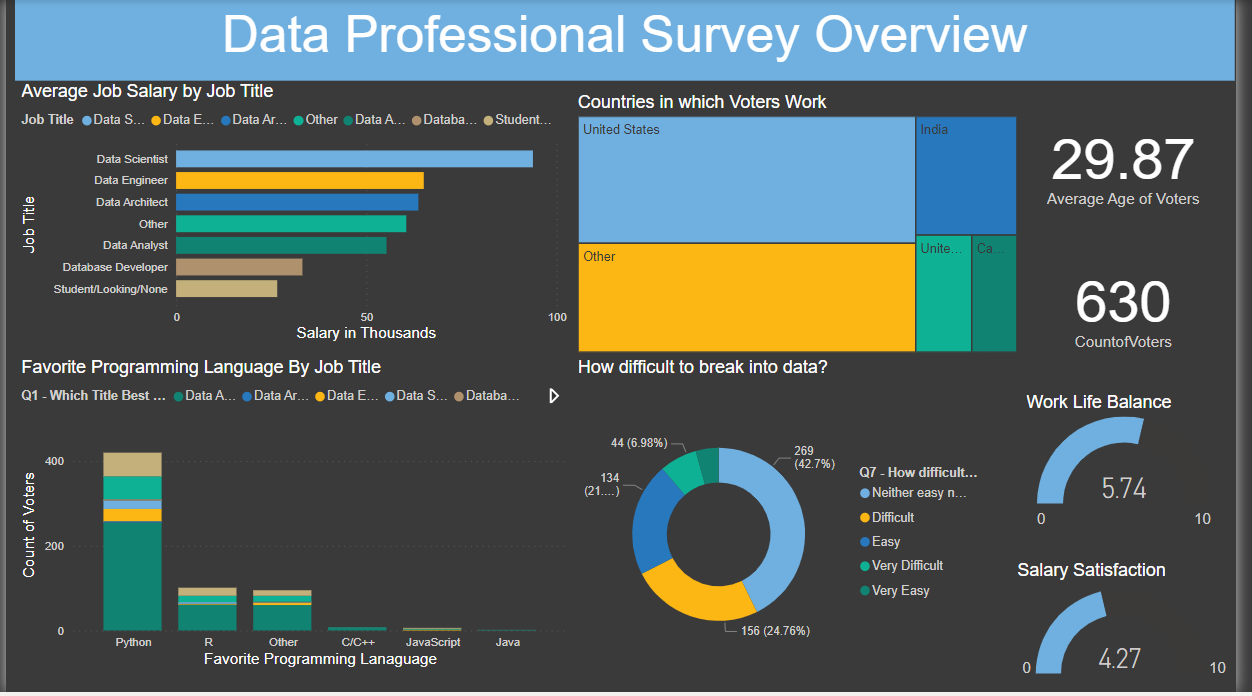

The page's visual inventory and layout, read from the dashboard file:
{"tool":"powerbi","page":{"name":"Page 1","canvas":[1280,720],"ordinal":0},"visuals":[{"type":"textbox","box":[9.5,0,1269.9,84.2],"z":0},{"type":"card","fields":{"Values":["CountNonNull(Data Professional Survey.Unique ID)"]},"box":[1057,243.2,211.4,149.4],"z":1},{"type":"card","fields":{"Values":["Avg(Data Professional Survey.Q10 - Current Age)"]},"box":[1057,95.4,211.4,147.8],"z":2},{"type":"barChart","title":"Average Job Salary by Job Title","fields":{"Y":["Avg(Data Professional Survey.AverageSalary)"],"Series":["Data Professional Survey.Q1 - Which Title Best Fits your Current Role?.1"],"Category":["Data Professional Survey.Q1 - Which Title Best Fits your Current Role?.1"]},"box":[11.1,84.2,578.5,276.6],"z":3},{"type":"columnChart","title":"Favorite Programming Language By Job Title","fields":{"Category":["Data Professional Survey.Q5 - Favorite Programming Language.1"],"Y":["CountNonNull(Data Professional Survey.Unique ID)"],"Series":["Data Professional Survey.Q1 - Which Title Best Fits your Current Role?.1"]},"box":[10.4,371.3,578.8,327.8],"z":4},{"type":"treemap","title":"Countries in which Voters Work","fields":{"Group":["Data Professional Survey.Q11 - Which Country do you live in?.1"],"Values":["CountNonNull(Data Professional Survey.Q11 - Which Country do you live in?.1)"]},"box":[589.7,95.4,467.3,276.6],"z":5},{"type":"gauge","title":"Work Life Balance","fields":{"Y":["Avg(Data Professional Survey.Q6 - How Happy are you in your Current Position with the following? (Work/Life Balance))"],"MinValue":["Min(Data Professional Survey.Q6 - How Happy are you in your Current Position with the following? (Work/Life Balance))"],"MaxValue":["Max(Data Professional Survey.Q6 - How Happy are you in your Current Position with the following? (Work/Life Balance))"]},"box":[1057,406.9,213,149.4],"z":6},{"type":"gauge","title":"Salary Satisfaction","fields":{"Y":["Avg(Data Professional Survey.Q6 - How Happy are you in your Current Position with the following? (Salary))"],"MinValue":["Min(Data Professional Survey.Q6 - How Happy are you in your Current Position with the following? (Salary))1"],"MaxValue":["Max(Data Professional Survey.Q6 - How Happy are you in your Current Position with the following? (Salary))2"]},"box":[1047.4,583.3,232.1,133.5],"z":7},{"type":"donutChart","title":"How difficult to break into data?","fields":{"Category":["Data Professional Survey.Q7 - How difficult was it for you to break into Data?"],"Y":["CountNonNull(Data Professional Survey.Unique ID)"]},"box":[589.7,371.9,429.1,348.1],"z":8}]}

Visuals, with their boxes in screenshot pixels (x1, y1, x2, y2), scaled from the page's 1280x720 canvas onto the 1252x696 screenshot:
textbox: <region>9, 0, 1251, 81</region>
card - CountNonNull(Data Professional Survey.Unique ID): <region>1034, 235, 1241, 380</region>
card - Avg(Data Professional Survey.Q10 - Current Age): <region>1034, 92, 1241, 235</region>
"Average Job Salary by Job Title" barChart: <region>11, 81, 577, 349</region>
"Favorite Programming Language By Job Title" columnChart: <region>10, 359, 576, 676</region>
"Countries in which Voters Work" treemap: <region>577, 92, 1034, 360</region>
"Work Life Balance" gauge: <region>1034, 393, 1242, 538</region>
"Salary Satisfaction" gauge: <region>1024, 564, 1251, 693</region>
"How difficult to break into data?" donutChart: <region>577, 360, 997, 695</region>
